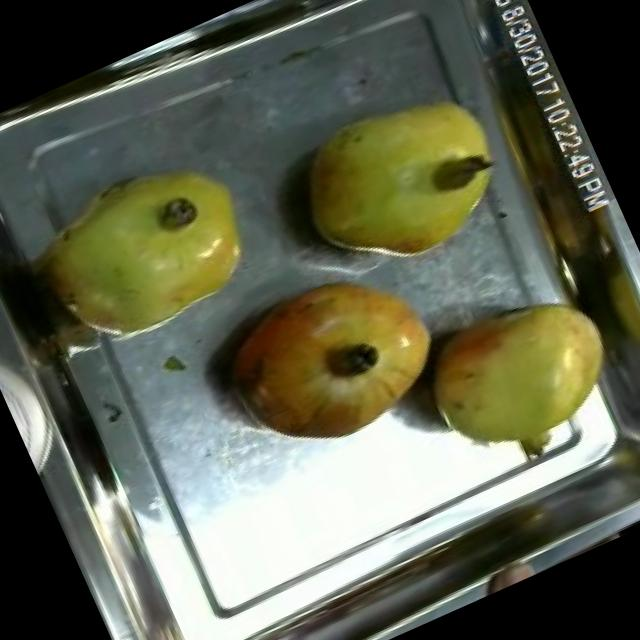fruit: (0, 118, 293, 382), (194, 235, 472, 480), (270, 61, 535, 304), (396, 263, 640, 491), (461, 540, 558, 604)
